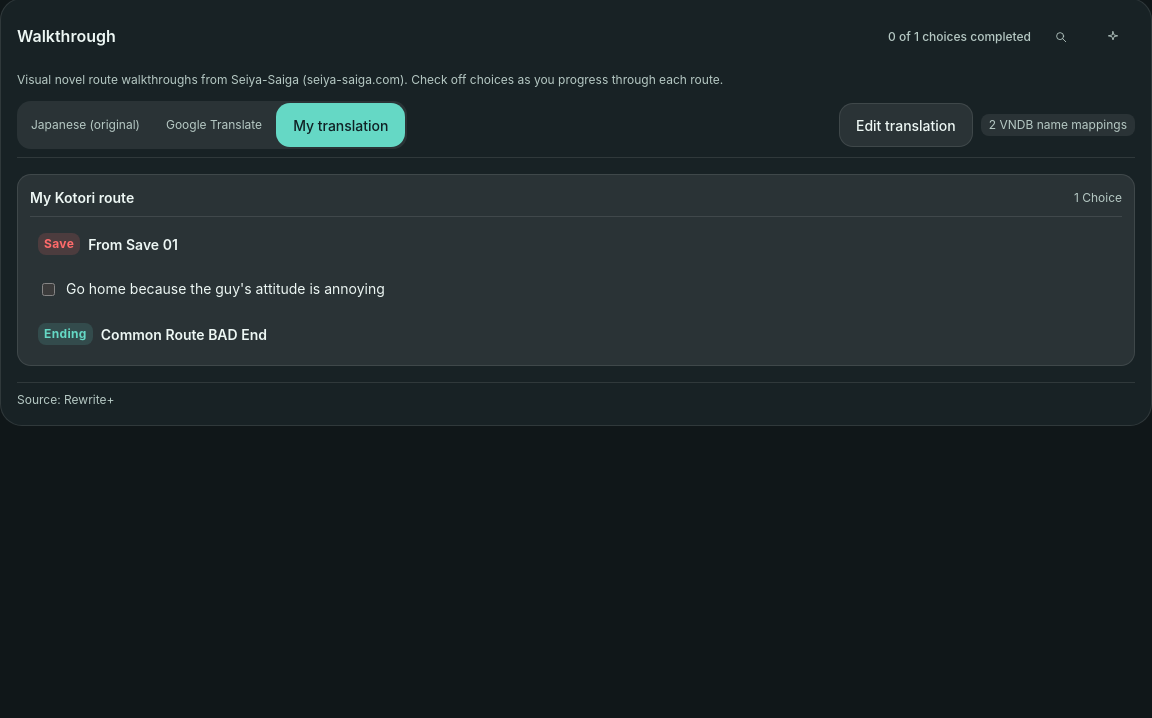
Test: WalkthroughCard › loads manual translations first and cancelling an edit writes nothing
Check: the text "My Kotori route" is shown, box [30, 187, 134, 208]
Click the button "Edit translation".
click(906, 125)  # box [839, 103, 973, 147]
(page scrolled)
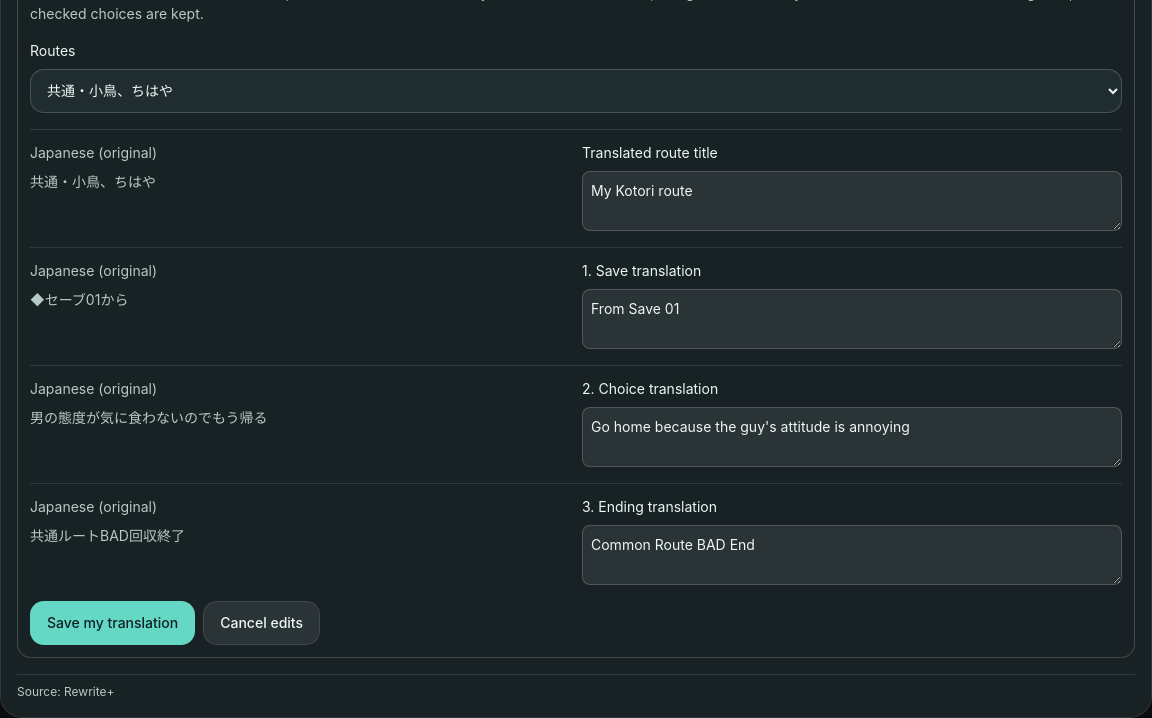
Click the button "Cancel edits".
click(262, 623)  # box [203, 601, 320, 645]
(page scrolled)
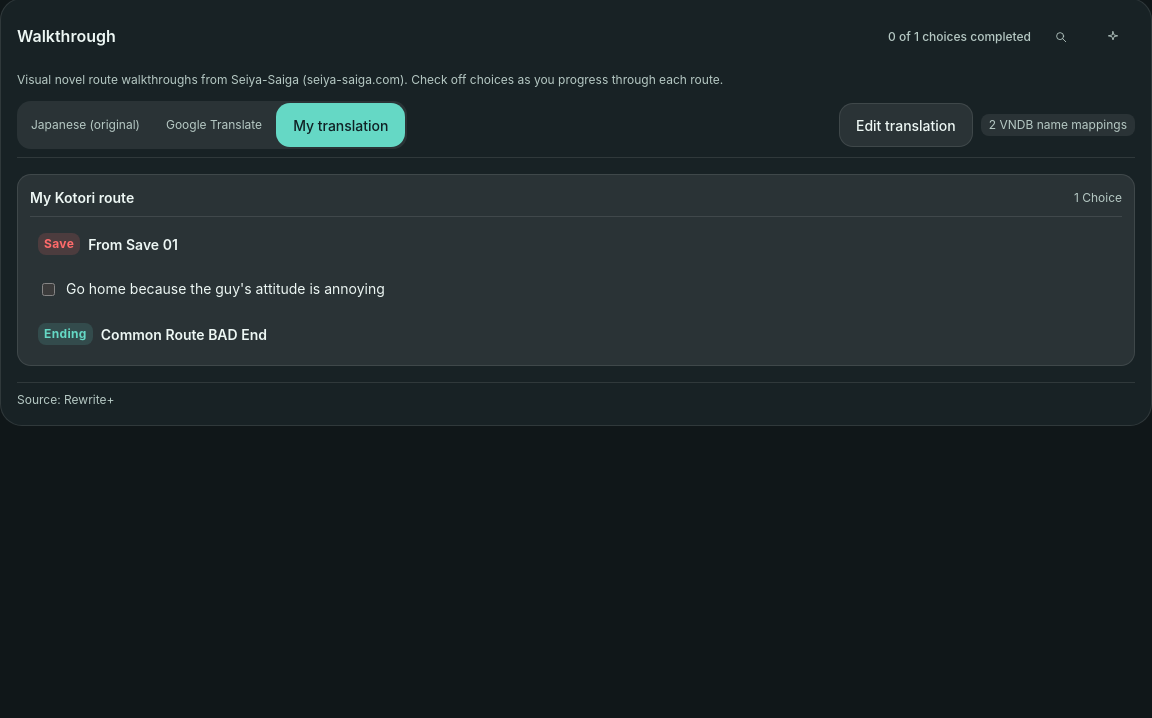
Check: the text "My Kotori route" is shown, box [30, 187, 134, 208]
